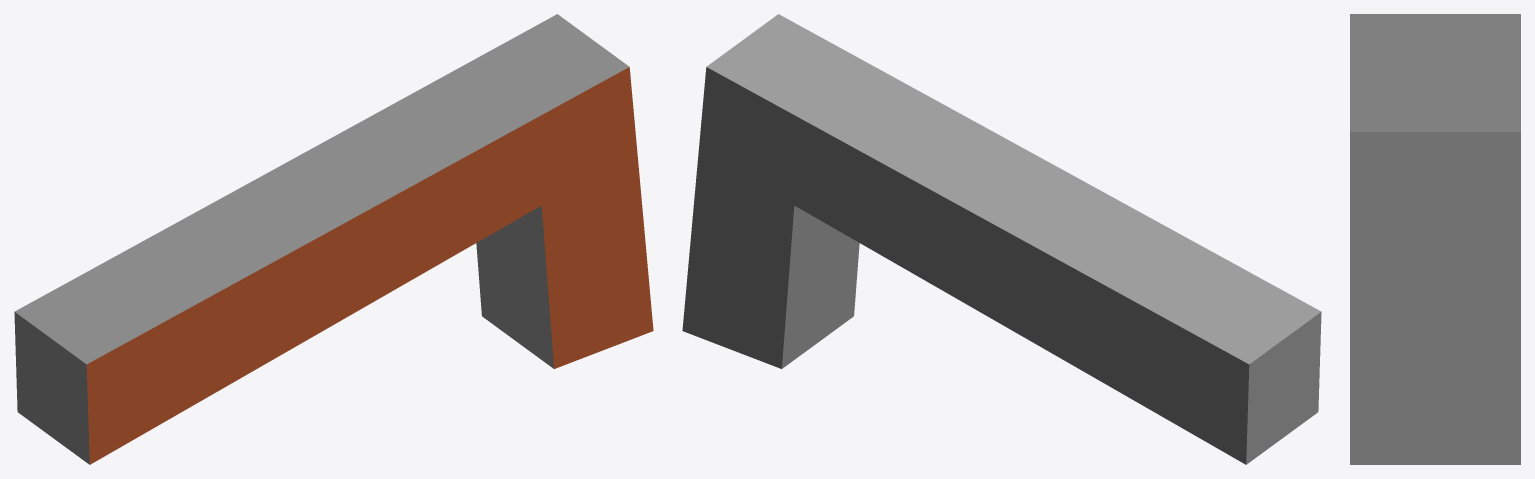
The model's file is construction_7038_assumed_A_Casa_h6m.obj.
The picture shows the model from 3 angles, left to right: view 1: azimuth 30°, elevation 25°; view 2: azimuth 150°, elevation 25°; view 3: azimuth 270°, elevation 25°; orthographic projection. The views are drawn at different scales.
Parts seen in each view (by area): view 1: construction_7038_assumed_A_Casa; view 2: construction_7038_assumed_A_Casa; view 3: construction_7038_assumed_A_Casa.
Boxes of the visible parts, bbox=[...] form: construction_7038_assumed_A_Casa: bbox=[14, 14, 653, 464]; construction_7038_assumed_A_Casa: bbox=[682, 14, 1321, 464]; construction_7038_assumed_A_Casa: bbox=[1350, 14, 1520, 464].
Bounding box in the file's own units: 27.18 × 13.01 × 6.
